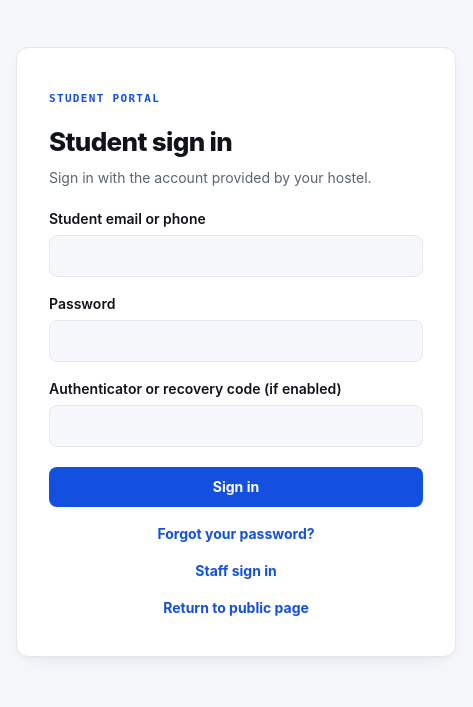
Test case: LoginForm › rejects staff credentials on the student sign-in form
The width and height of the screenshot is (473, 707).
Step 1. Type "staff@example.com" into the field labelled "Student email or phone" → x=236, y=256, box [49, 235, 423, 277]
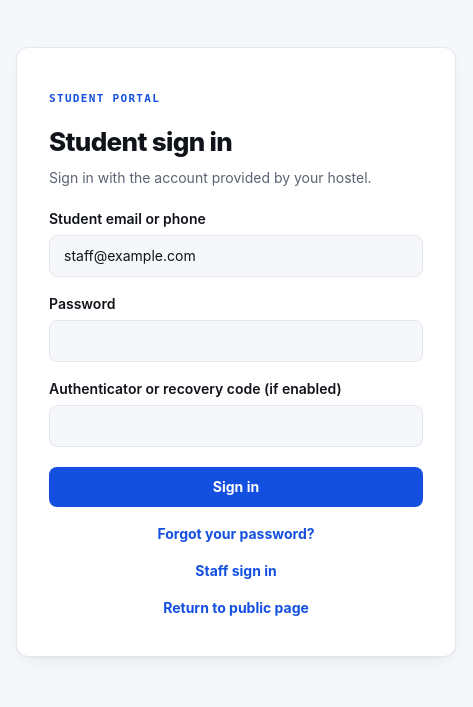
Step 2. Type "StaffPass123!" into the password field labelled "Password" → x=236, y=341, box [49, 320, 423, 362]
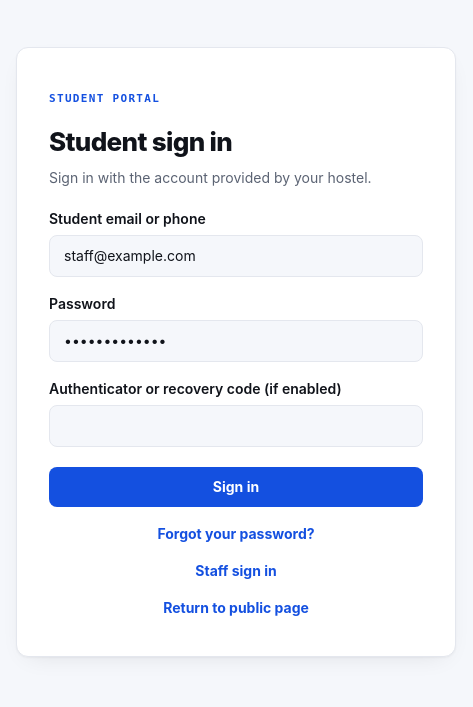
Step 3. Click the button "Sign in" → x=236, y=487, box [49, 467, 423, 507]
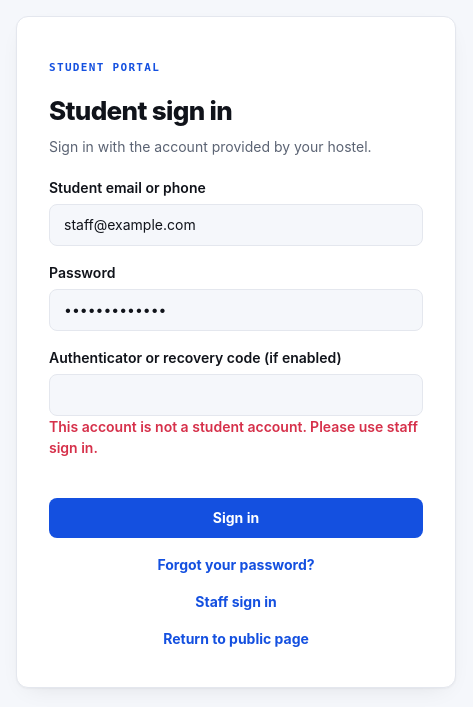
Check: the message reads "This account is not a student account. Please use staff sign in.", box [49, 418, 418, 456]
